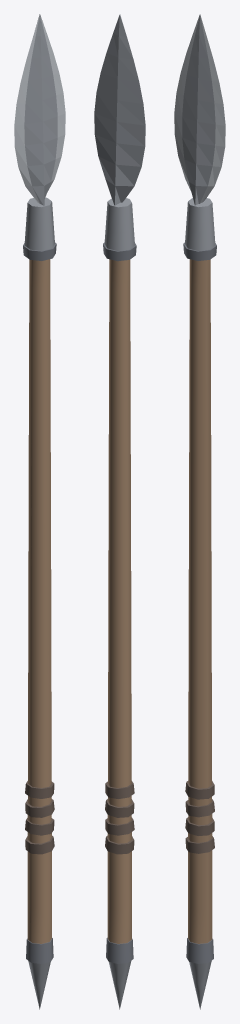
File: spear_leaf_iron.gltf
The picture shows the model from 3 angles, left to right: view 1: azimuth 30°, elevation 25°; view 2: azimuth 150°, elevation 25°; view 3: azimuth 330°, elevation 25°; orthographic projection.
Parts seen in each view (by area): view 1: Wooden_Shaft, Spearhead_Blade, Spear_Socket_Collar, Leather_Grip_Wraps, Spear_Butt_Cap; view 2: Wooden_Shaft, Spearhead_Blade, Spear_Socket_Collar, Leather_Grip_Wraps, Spear_Butt_Cap; view 3: Wooden_Shaft, Spearhead_Blade, Spear_Socket_Collar, Leather_Grip_Wraps, Spear_Butt_Cap.
Boxes of the visible parts, <box> form: Wooden_Shaft: <box>27,259,51,943</box>; Spearhead_Blade: <box>14,14,65,205</box>; Spear_Socket_Collar: <box>23,197,56,260</box>; Leather_Grip_Wraps: <box>25,781,54,854</box>; Spear_Butt_Cap: <box>26,938,53,1009</box>; Wooden_Shaft: <box>107,259,131,943</box>; Spearhead_Blade: <box>94,14,145,205</box>; Spear_Socket_Collar: <box>103,198,136,261</box>; Leather_Grip_Wraps: <box>105,781,134,854</box>; Spear_Butt_Cap: <box>106,937,133,1009</box>; Wooden_Shaft: <box>188,259,212,943</box>; Spearhead_Blade: <box>174,14,225,205</box>; Spear_Socket_Collar: <box>183,198,216,260</box>; Leather_Grip_Wraps: <box>185,781,214,853</box>; Spear_Butt_Cap: <box>186,938,213,1009</box>.
Size of the model in its own units: 0.1532 by 2.83 by 0.0813.
